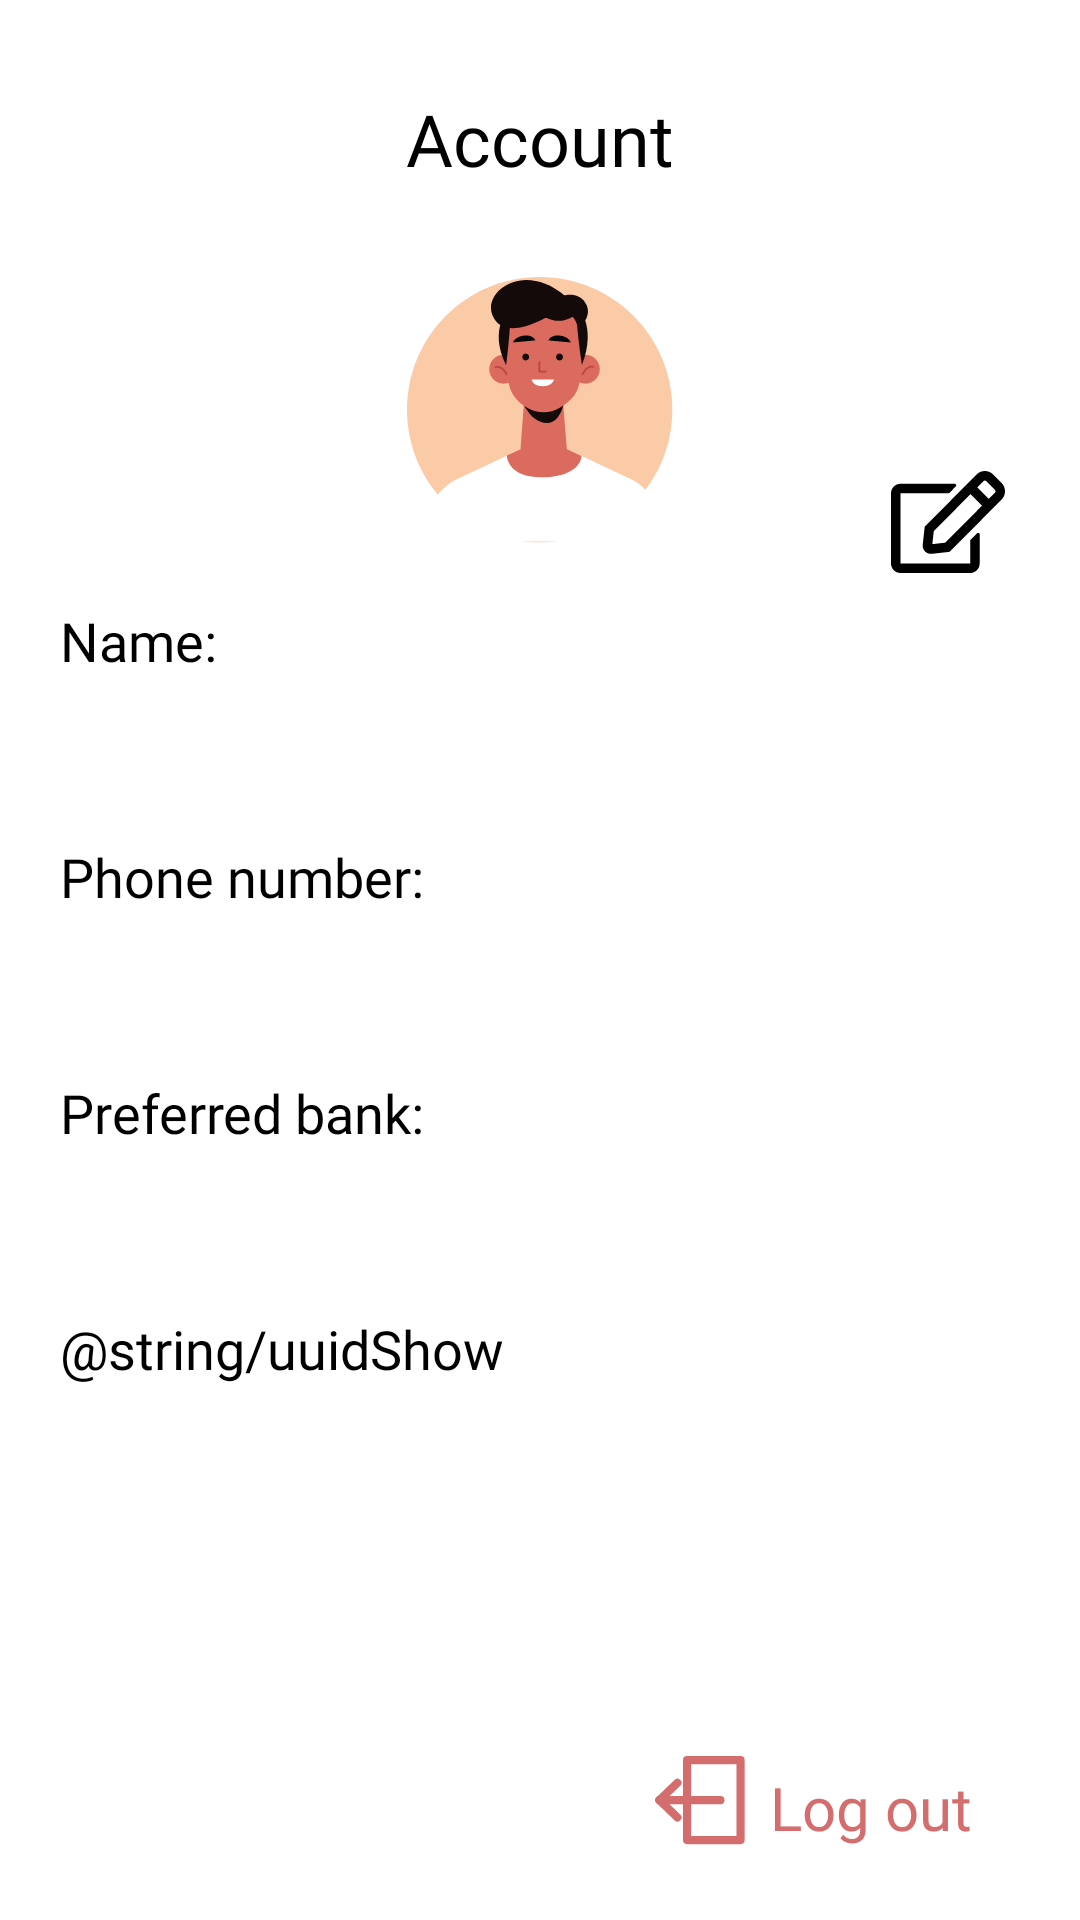

Locate icon controls on the screen. Image size 1080 x 1920, boxes as (x1=x1, y1=y1, x2=x2, y2=y2).
Edit: (x1=891, y1=471, x2=1005, y2=573)
Profile: (x1=407, y1=277, x2=673, y2=542)
